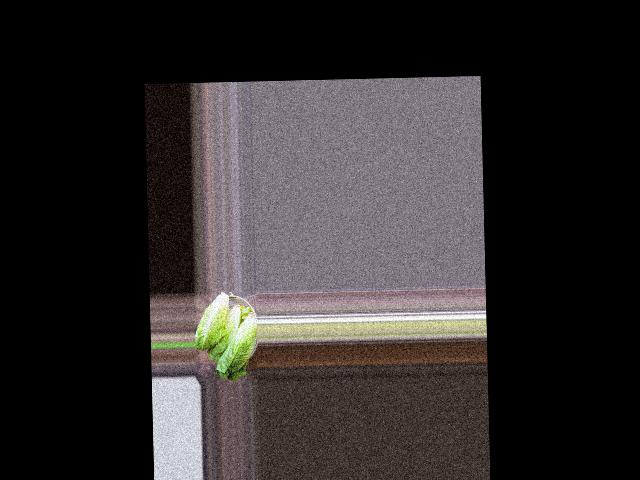lettuce: (213, 306, 259, 379)
